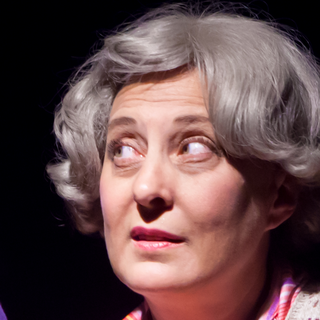eye: (168, 138, 225, 165), (104, 140, 150, 171)
